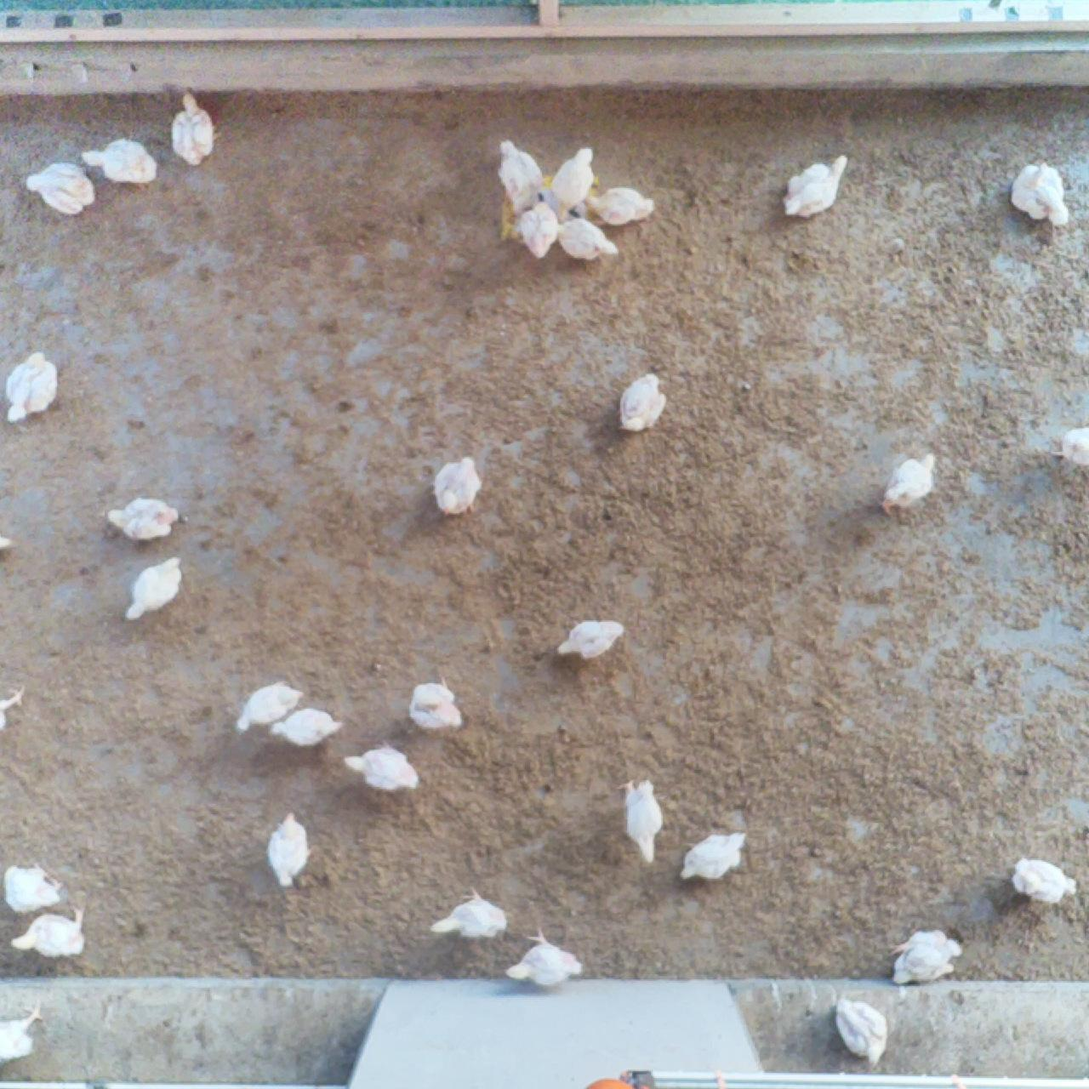chicken: (498, 924, 590, 991), (6, 897, 97, 964), (827, 986, 893, 1073), (116, 550, 190, 627), (424, 878, 511, 942), (340, 735, 427, 797), (887, 923, 970, 986), (615, 772, 668, 870), (0, 345, 63, 427), (76, 132, 163, 191), (779, 148, 850, 220), (261, 803, 320, 889), (101, 486, 184, 547), (874, 447, 943, 518), (1008, 157, 1073, 231), (22, 157, 98, 219), (426, 452, 490, 525), (233, 677, 308, 738), (1003, 854, 1086, 909), (549, 142, 606, 221), (676, 825, 752, 884), (0, 851, 66, 917), (494, 135, 547, 215), (405, 669, 469, 734), (167, 87, 216, 170), (266, 703, 347, 751), (583, 181, 665, 228), (499, 199, 560, 262), (614, 370, 670, 435), (552, 617, 631, 663), (0, 995, 48, 1066), (554, 219, 622, 265), (1044, 420, 1089, 470)
